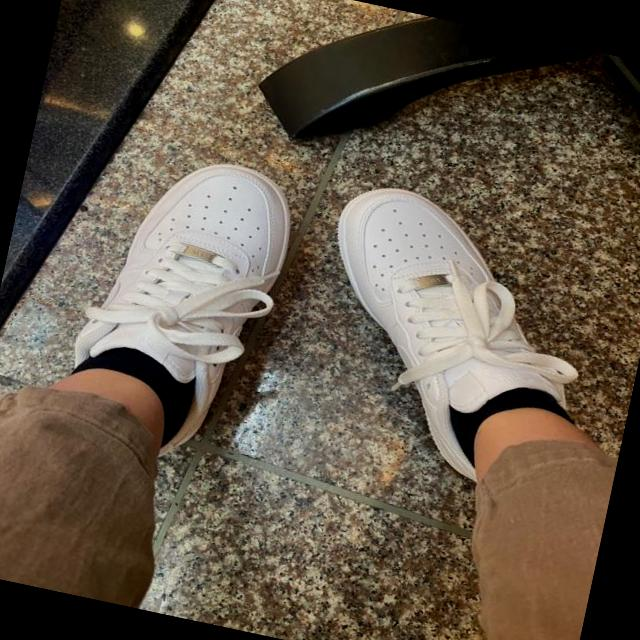nike_original_airforce: (43, 140, 314, 490), (294, 174, 620, 458)
